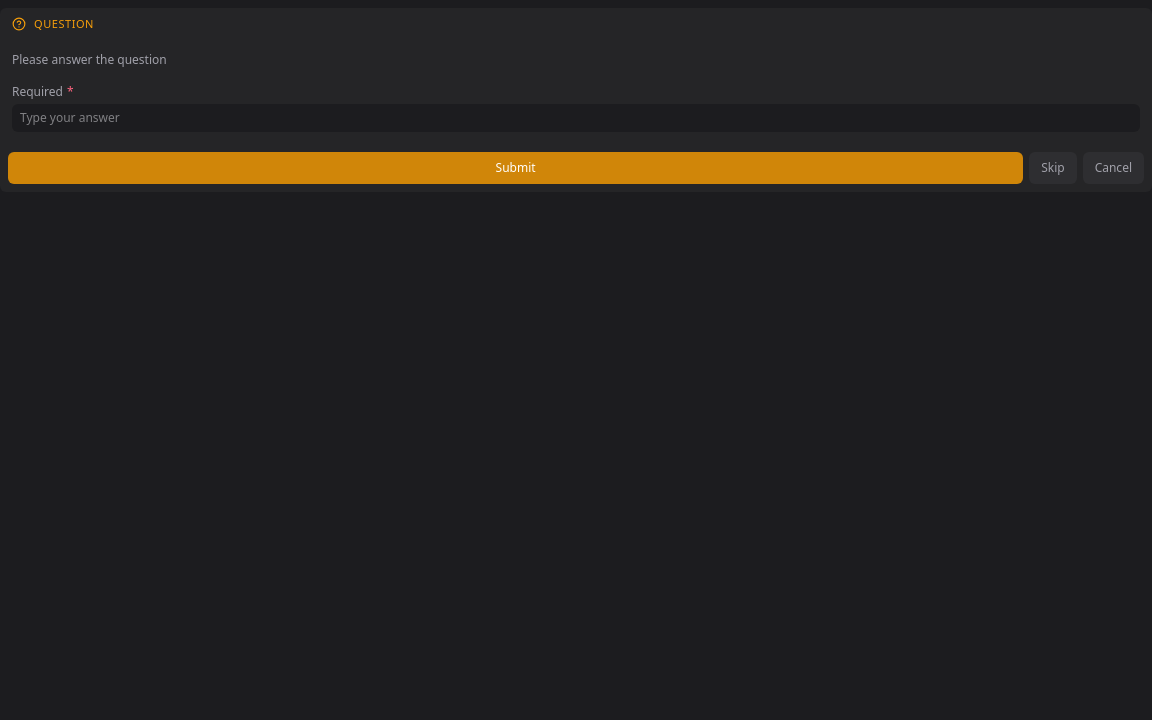
AskUserQuestionCard free_text › blocks submit when a required free_text is empty
The image size is (1152, 720).
Click the button "Submit" at x=516, y=168, box [8,152,1023,184]
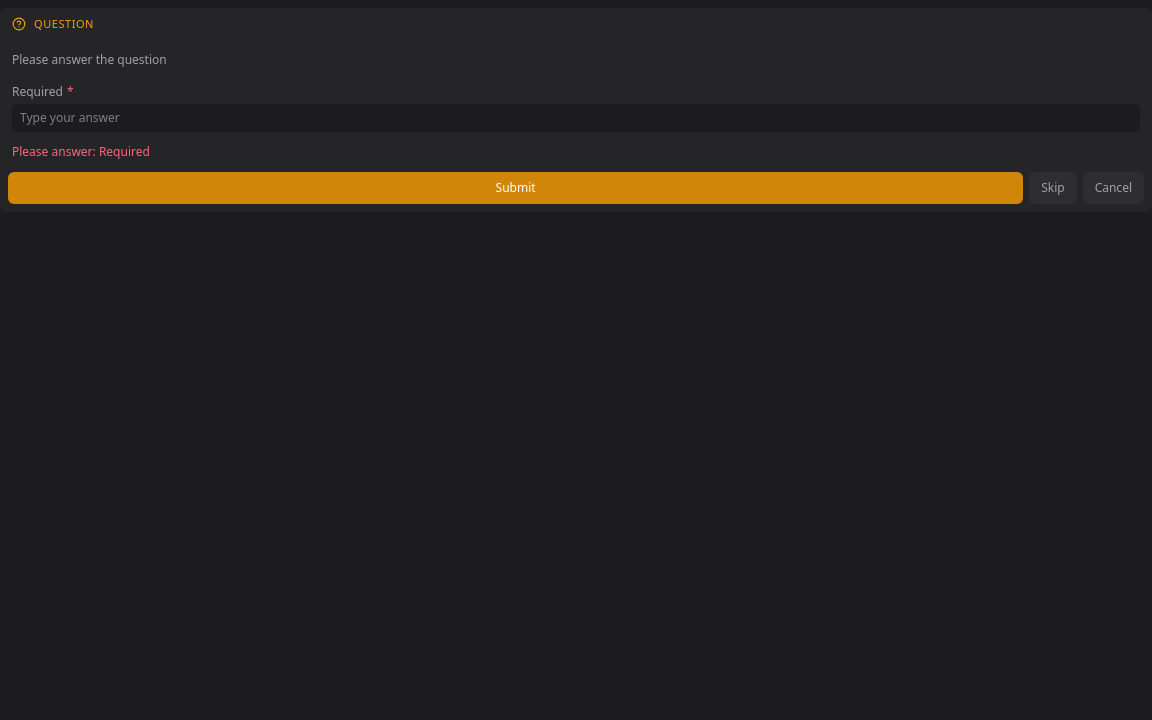
Expected: the text "Please answer: Required" is shown, [12,143,150,160]
